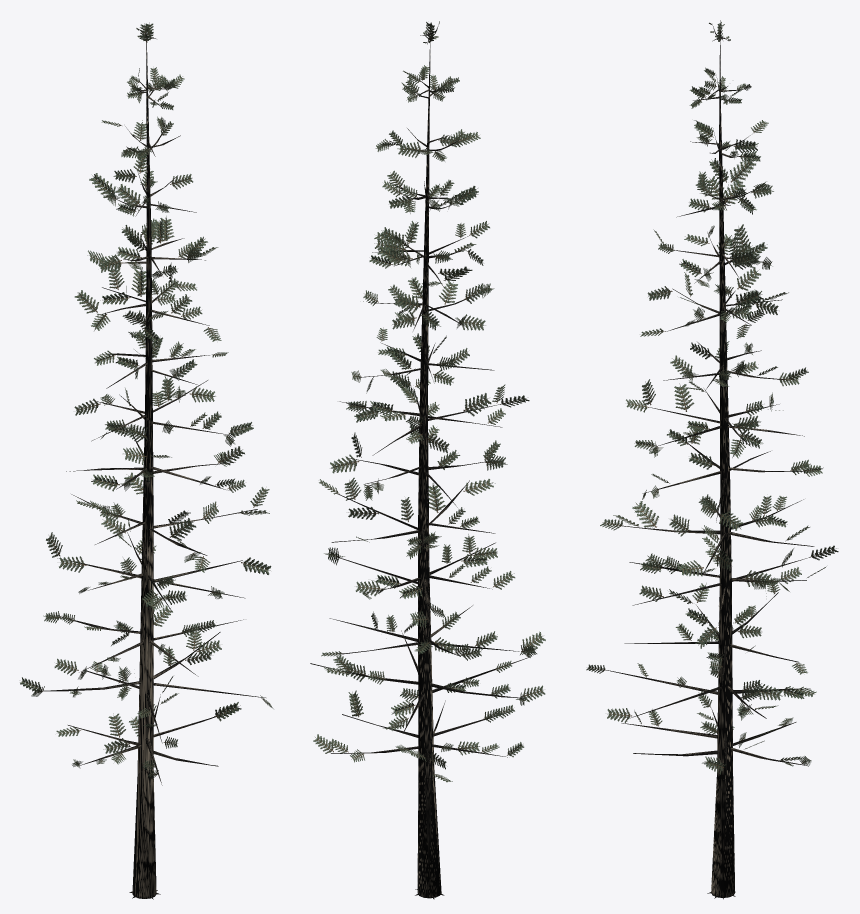
File: Sitka_Young_02_Unpruned_LOD2.fbx
The picture shows the model from 3 angles, left to right: view 1: azimuth 30°, elevation 25°; view 2: azimuth 150°, elevation 25°; view 3: azimuth 270°, elevation 25°; orthographic projection.
Parts seen in each view (by area): view 1: Sitka_Young_02_Unpruned_LOD2; view 2: Sitka_Young_02_Unpruned_LOD2; view 3: Sitka_Young_02_Unpruned_LOD2.
Part boxes in pixels (x1,y1,x2,y2): Sitka_Young_02_Unpruned_LOD2: [20, 22, 273, 899]; Sitka_Young_02_Unpruned_LOD2: [310, 21, 545, 899]; Sitka_Young_02_Unpruned_LOD2: [586, 20, 838, 899].
Size of the model in its own units: 303 by 1050 by 286.
Materials: 2 (2 with a texture image).
